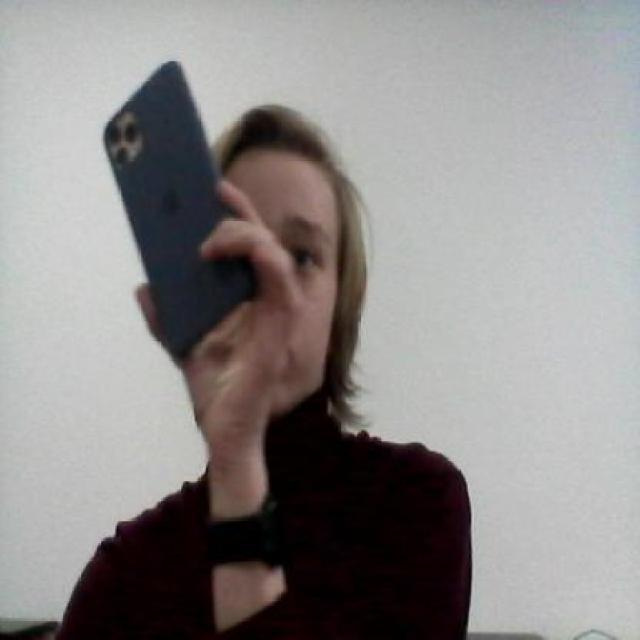Mobile: (72, 40, 300, 367)
